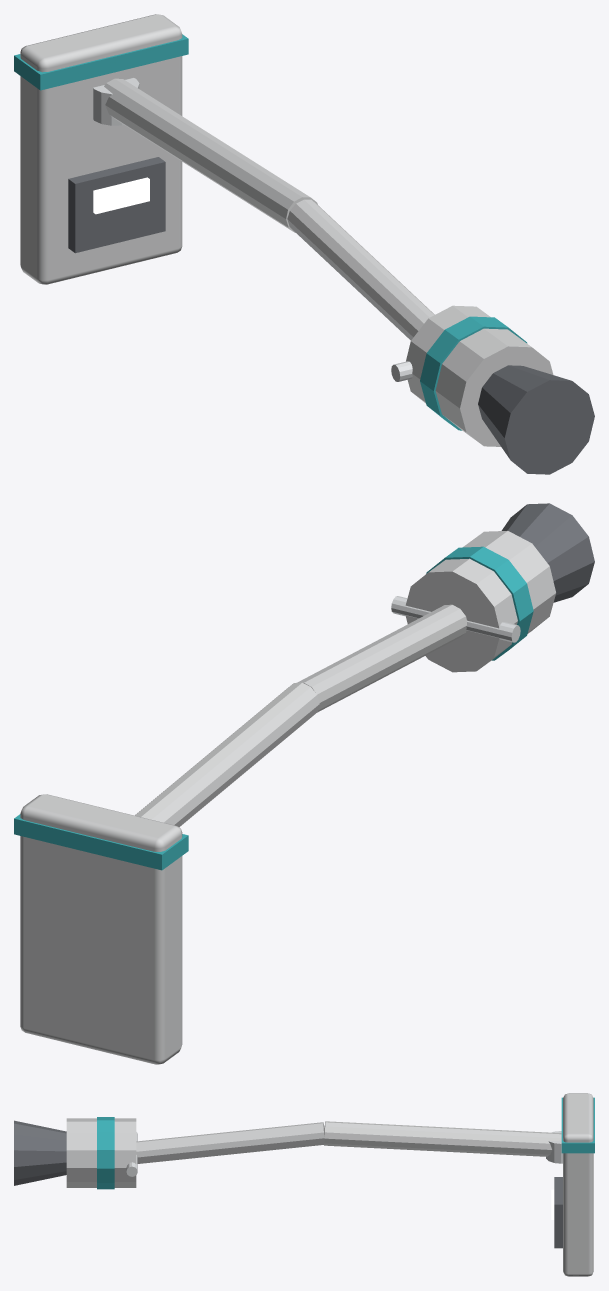
File: intraoral-xray-arm.glb
3 views of the same model, one above another, from view 1: azimuth 30°, elevation 25°; view 2: azimuth 150°, elevation 25°; view 3: azimuth 270°, elevation 25° (orthographic). The views are drawn at different scales.
Parts seen in each view (by area): view 1: intraoral-xray-arm, xray-arm/white, xray-arm/dark, xray-arm/teal, xray-arm/steel; view 2: intraoral-xray-arm, xray-arm/white, xray-arm/dark, xray-arm/teal, xray-arm/steel; view 3: xray-arm/white, intraoral-xray-arm, xray-arm/dark, xray-arm/teal, xray-arm/steel.
Part boxes in pixels (bbox=[...]): intraoral-xray-arm: bbox=[14, 14, 188, 284]; xray-arm/white: bbox=[104, 78, 553, 446]; xray-arm/dark: bbox=[478, 365, 594, 474]; xray-arm/teal: bbox=[420, 316, 527, 430]; xray-arm/steel: bbox=[93, 78, 412, 381]; intraoral-xray-arm: bbox=[14, 794, 188, 1064]; xray-arm/white: bbox=[135, 530, 555, 827]; xray-arm/dark: bbox=[501, 503, 594, 602]; xray-arm/teal: bbox=[426, 546, 533, 660]; xray-arm/steel: bbox=[391, 596, 520, 642]; xray-arm/white: bbox=[66, 1118, 561, 1187]; intraoral-xray-arm: bbox=[551, 1093, 594, 1276]; xray-arm/dark: bbox=[14, 1120, 66, 1185]; xray-arm/teal: bbox=[97, 1117, 114, 1189]; xray-arm/steel: bbox=[126, 1131, 562, 1176].
Size of the model in its own units: 0.246 by 0.36 by 1.33.
